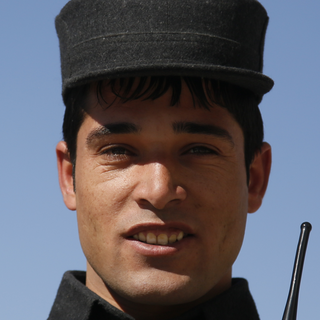eye: (88, 141, 149, 164), (176, 140, 225, 165)
